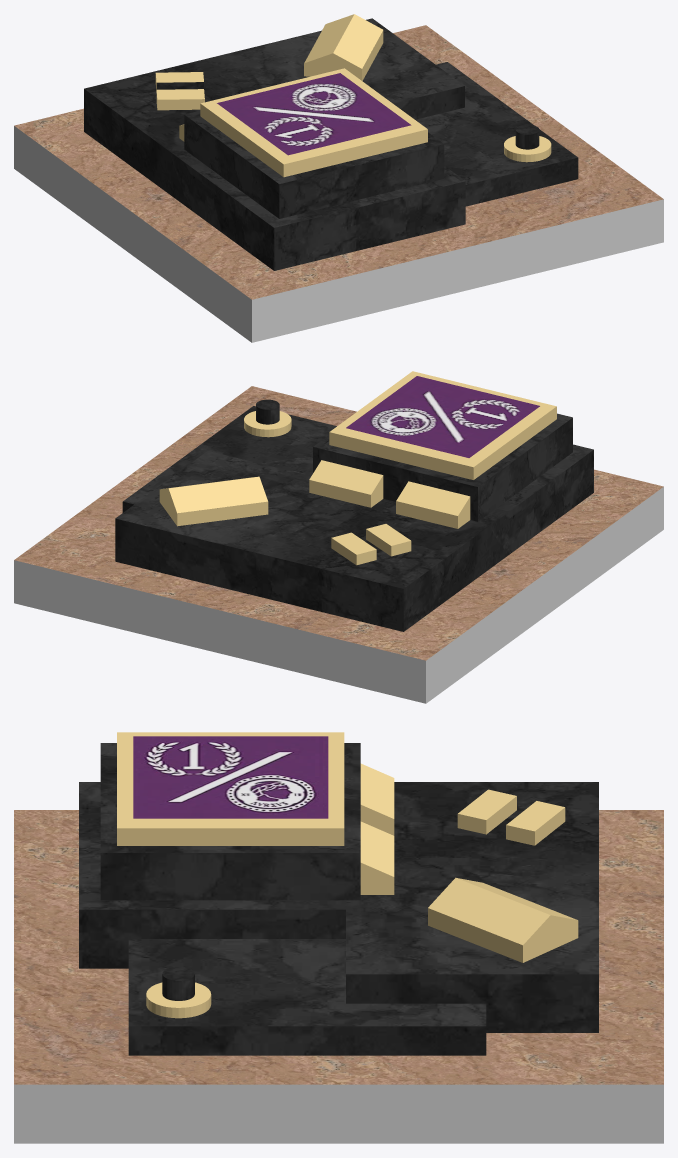
Rendered from buildingMercadillo.glb.
3 views of the same model, one above another, from view 1: azimuth 30°, elevation 25°; view 2: azimuth 150°, elevation 25°; view 3: azimuth 270°, elevation 25° (orthographic). The views are drawn at different scales.
Parts seen in each view (by area): view 1: Mercadillo; view 2: Mercadillo; view 3: Mercadillo.
Part boxes in pixels (x1,y1,x2,y2): Mercadillo: (14, 14, 663, 342); Mercadillo: (14, 371, 663, 703); Mercadillo: (14, 732, 663, 1143).
Size of the model in its own units: 2 by 0.6313 by 2.
Materials: 5 (3 with a texture image).
